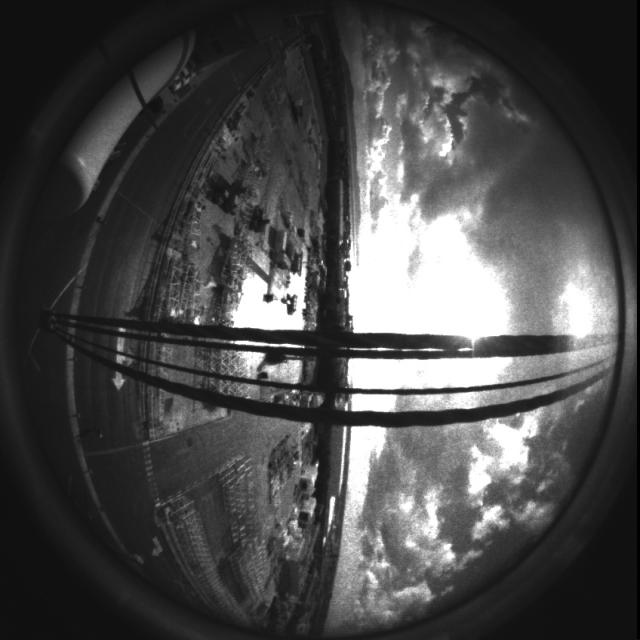rope: (2, 295, 638, 435)
sky: (324, 2, 617, 637)
